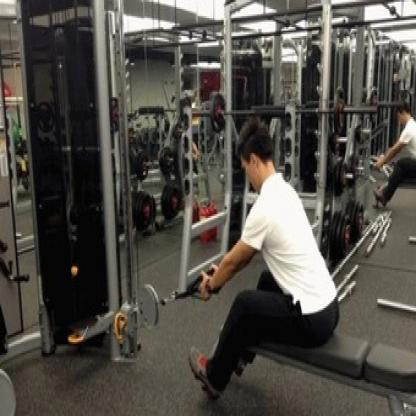Seated Cable Rows: (18, 0, 360, 416)
